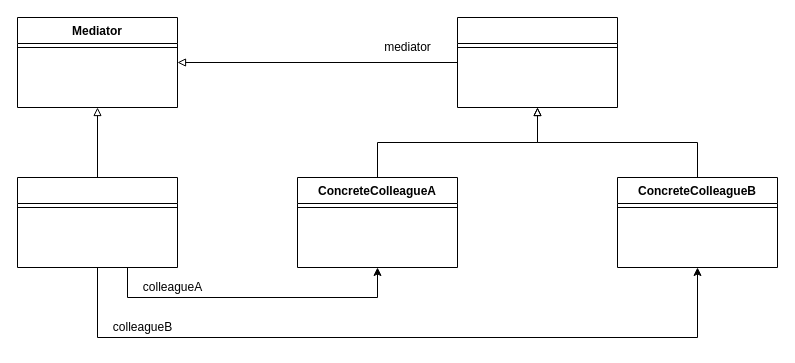
This 795x363 diagram has some shape labels left out. The box of each missing label's shape, as (x1, y1, x2, y2) in pixels:
Colleague: (456, 16, 618, 108)
ConcreteMediator: (16, 176, 178, 268)
